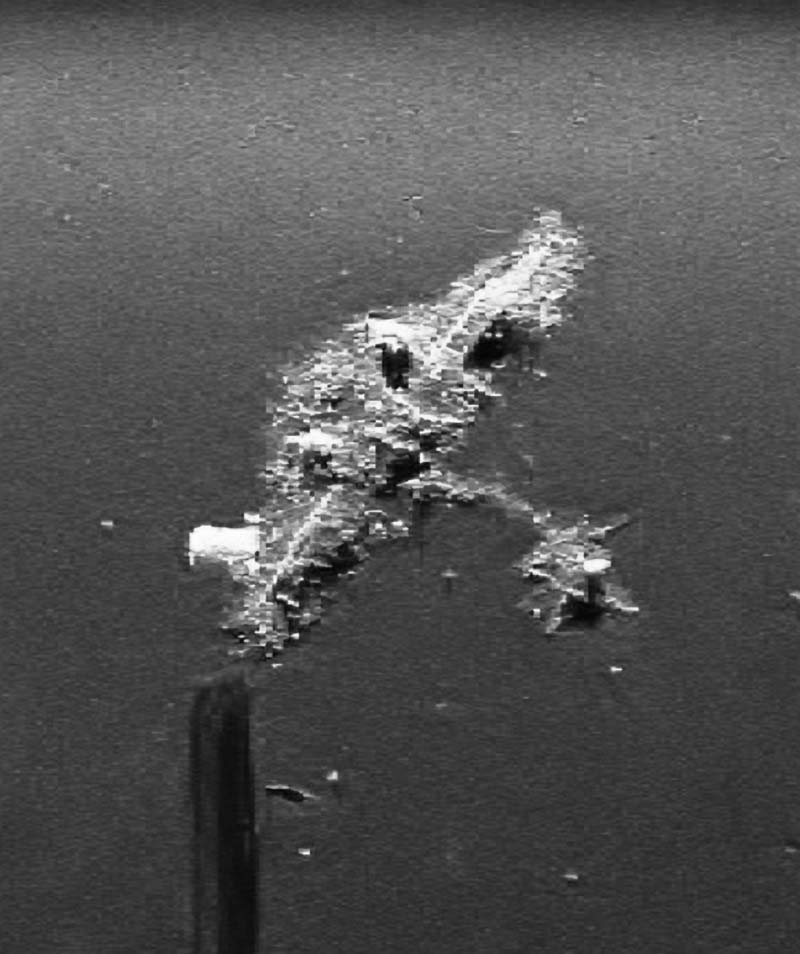plane: (226, 213, 641, 639)
